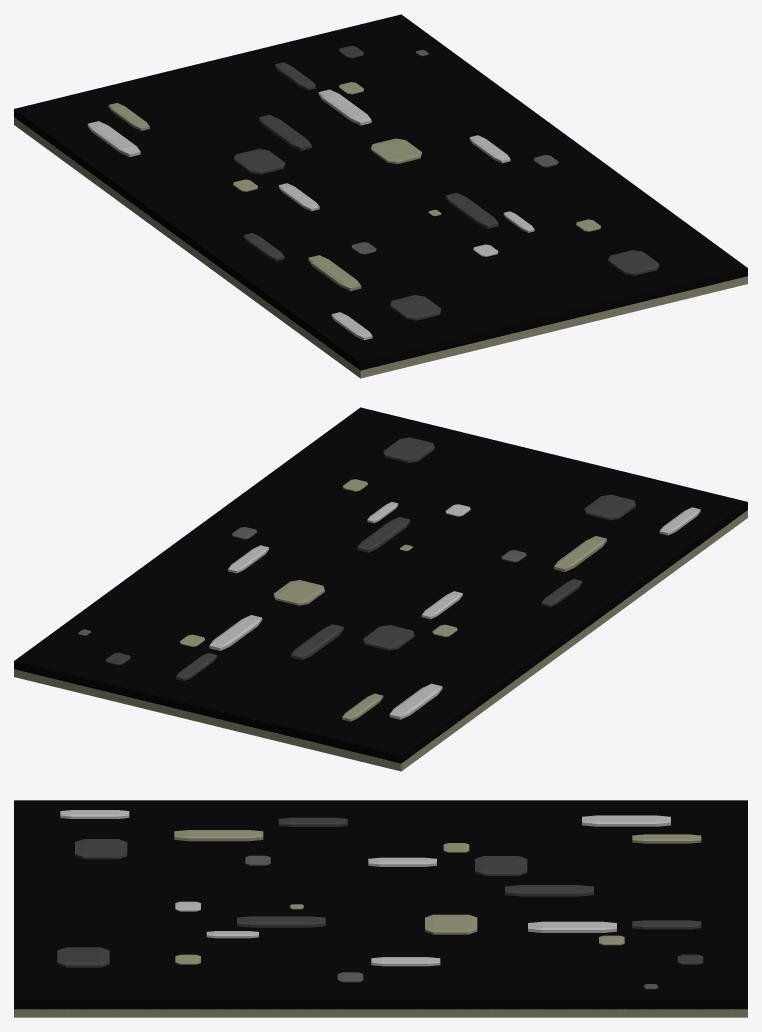
The model's file is prison_road.fbx.
3 renders of one model, top to bottom at view 1: azimuth 30°, elevation 25°; view 2: azimuth 150°, elevation 25°; view 3: azimuth 270°, elevation 25°, orthographic. The views are drawn at different scales.
Parts seen in each view (by area): view 1: 道路; view 2: 道路; view 3: 道路.
Part boxes in pixels (bbox=[...]): 道路: bbox=[14, 14, 747, 378]; 道路: bbox=[14, 407, 747, 771]; 道路: bbox=[14, 800, 747, 1017].
Size of the model in its own units: 515 by 24.87 by 798.
